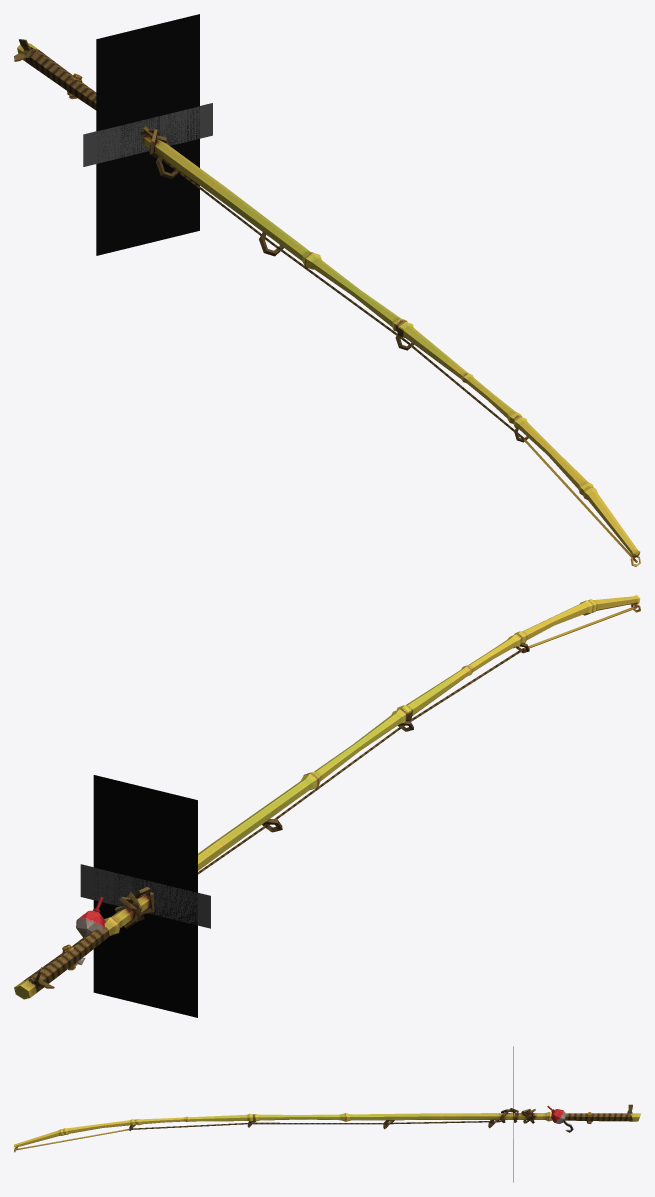
Rendered from item_bamboo_fishing_rod.glb.
3 views of the same model, one above another, from view 1: azimuth 30°, elevation 25°; view 2: azimuth 150°, elevation 25°; view 3: azimuth 270°, elevation 25° (orthographic). The views are drawn at different scales.
Visible parts, largest first — view 1: Cube (×4), Bamboo_FishingRod; view 2: Cube (×3), Bamboo_FishingRod, Bobber; view 3: Bamboo_FishingRod.
Boxes of the visible parts, bbox=[...] form: Cube (×4): bbox=[83, 14, 212, 255]; Bamboo_FishingRod: bbox=[14, 39, 640, 566]; Cube (×3): bbox=[80, 775, 210, 1017]; Bamboo_FishingRod: bbox=[14, 595, 640, 999]; Bobber: bbox=[76, 897, 105, 937]; Bamboo_FishingRod: bbox=[14, 1104, 640, 1152].
Bounding box in the file's own units: 0.25 × 0.4 × 2.06.
Materials: 3 (1 with a texture image).
